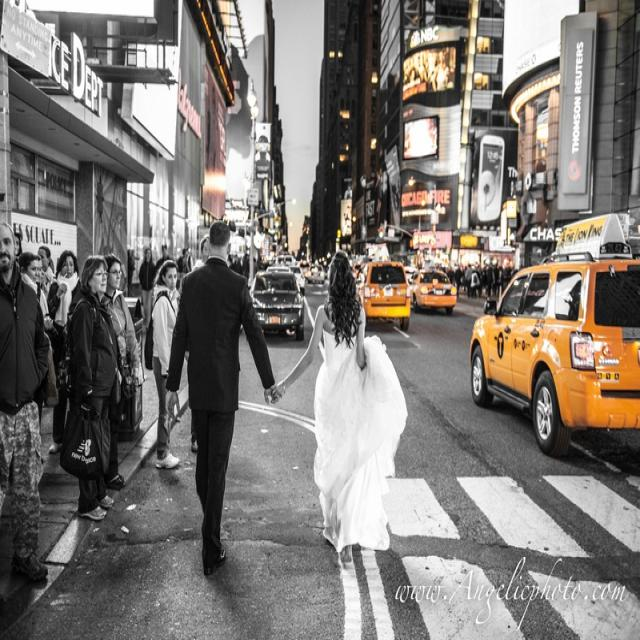body: (268, 244, 410, 568), (163, 215, 282, 581), (224, 239, 521, 302), (0, 220, 51, 586), (57, 249, 121, 523), (98, 252, 142, 489), (142, 258, 184, 472), (45, 248, 83, 455), (16, 249, 54, 431), (19, 251, 48, 338), (404, 50, 454, 94), (137, 247, 157, 333), (36, 244, 57, 302), (254, 134, 271, 185), (196, 234, 213, 270), (154, 243, 172, 272), (126, 249, 136, 298), (11, 225, 24, 259), (176, 248, 190, 279), (185, 245, 194, 273), (130, 248, 140, 268), (47, 258, 55, 276)
